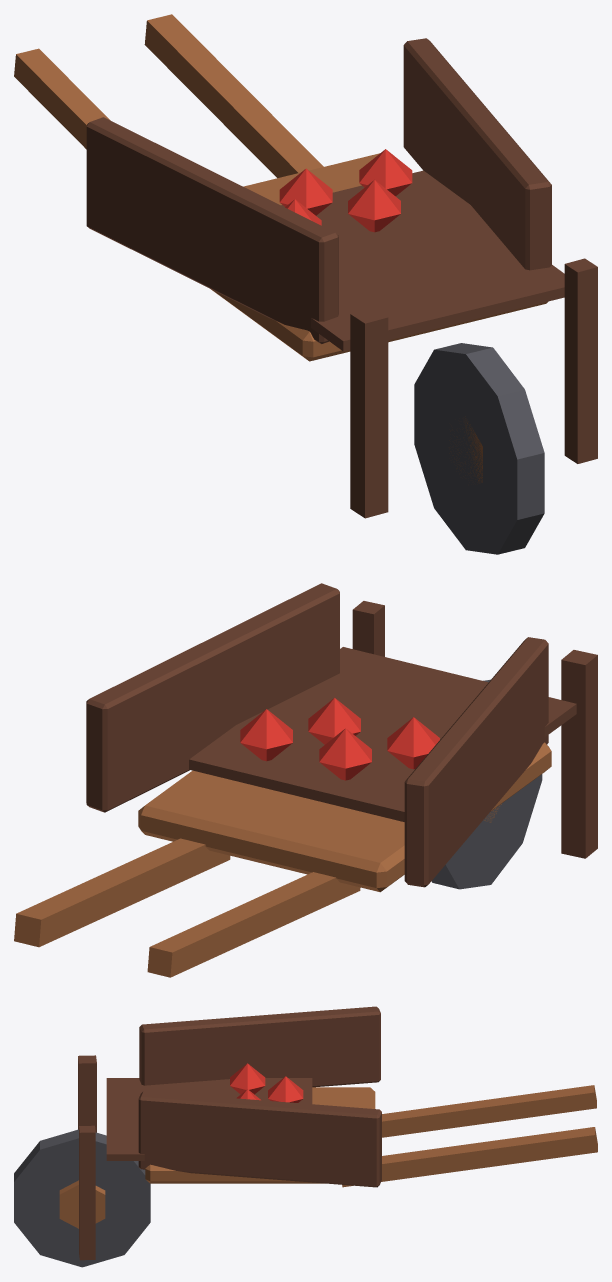
File: Wheelbarrow.fbx
3 views of the same model, one above another, from view 1: azimuth 30°, elevation 25°; view 2: azimuth 150°, elevation 25°; view 3: azimuth 270°, elevation 25° (orthographic). The views are drawn at different scales.
Parts seen in each view (by area): view 1: Wheelbarrow; view 2: Wheelbarrow; view 3: Wheelbarrow.
Part boxes in pixels (<box>): Wheelbarrow: <box>14,14,597,554</box>; Wheelbarrow: <box>14,583,597,977</box>; Wheelbarrow: <box>14,1006,597,1267</box>.
Bounding box in the file's own units: 1.04 × 0.8796 × 2.3.
